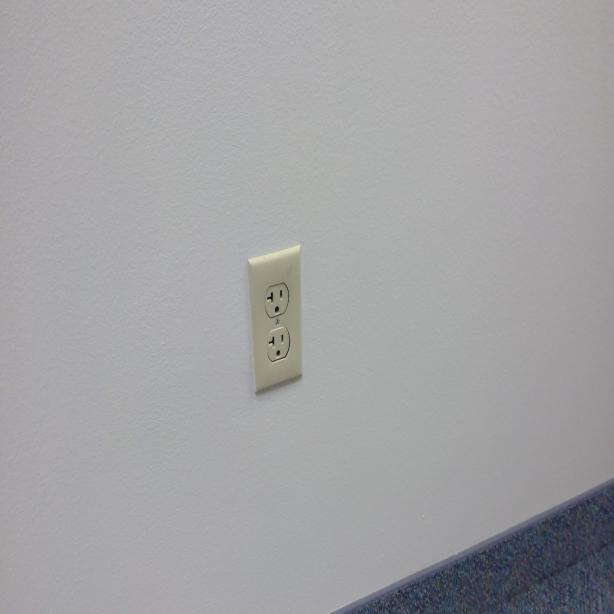typeb: (262, 283, 291, 325), (266, 332, 293, 361)
